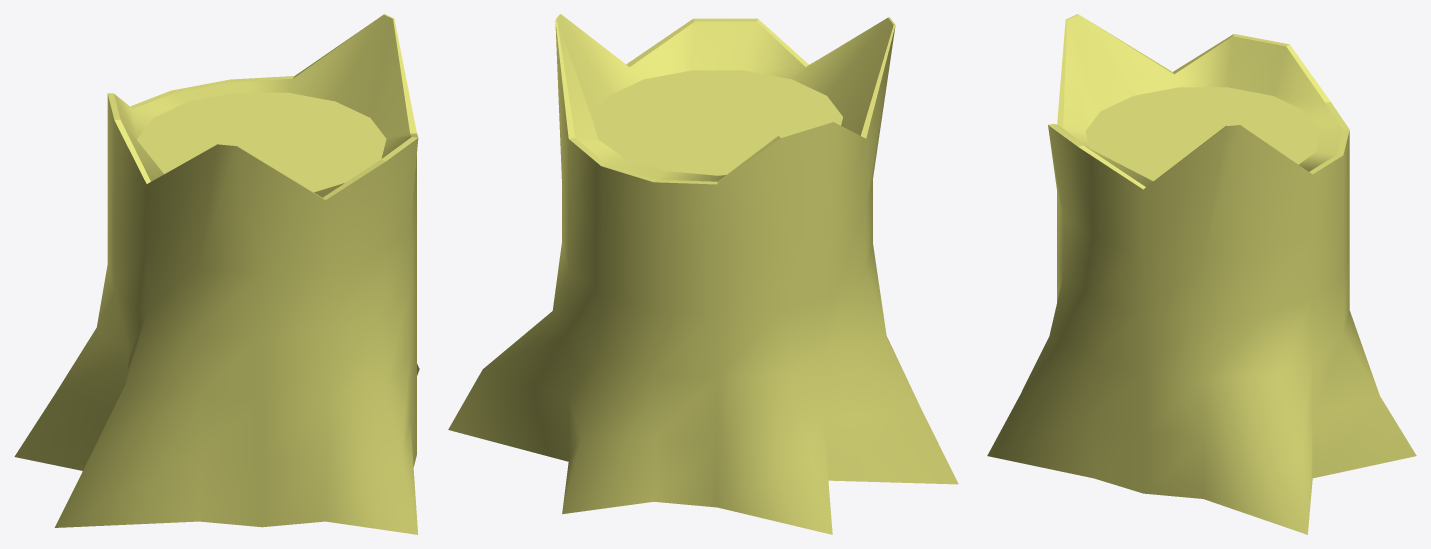
The model's file is TreeStump1.fbx.
3 views of the same model, side by side, from view 1: azimuth 30°, elevation 25°; view 2: azimuth 150°, elevation 25°; view 3: azimuth 270°, elevation 25° (orthographic). The views are drawn at different scales.
Visible parts, largest first — view 1: TreeStump1; view 2: TreeStump1; view 3: TreeStump1.
Boxes of the visible parts, left/top/right/bottom form: TreeStump1: left=14, top=14, right=419, bottom=534; TreeStump1: left=448, top=14, right=958, bottom=534; TreeStump1: left=987, top=14, right=1416, bottom=534.
Size of the model in its own units: 258 by 225 by 232.
